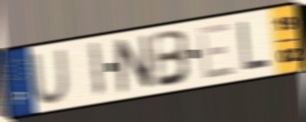B: (151, 28, 193, 91)
E: (196, 20, 237, 82)
I: (88, 40, 106, 101)
L: (237, 19, 272, 74)
N: (113, 32, 155, 95)
U: (28, 47, 72, 106)
